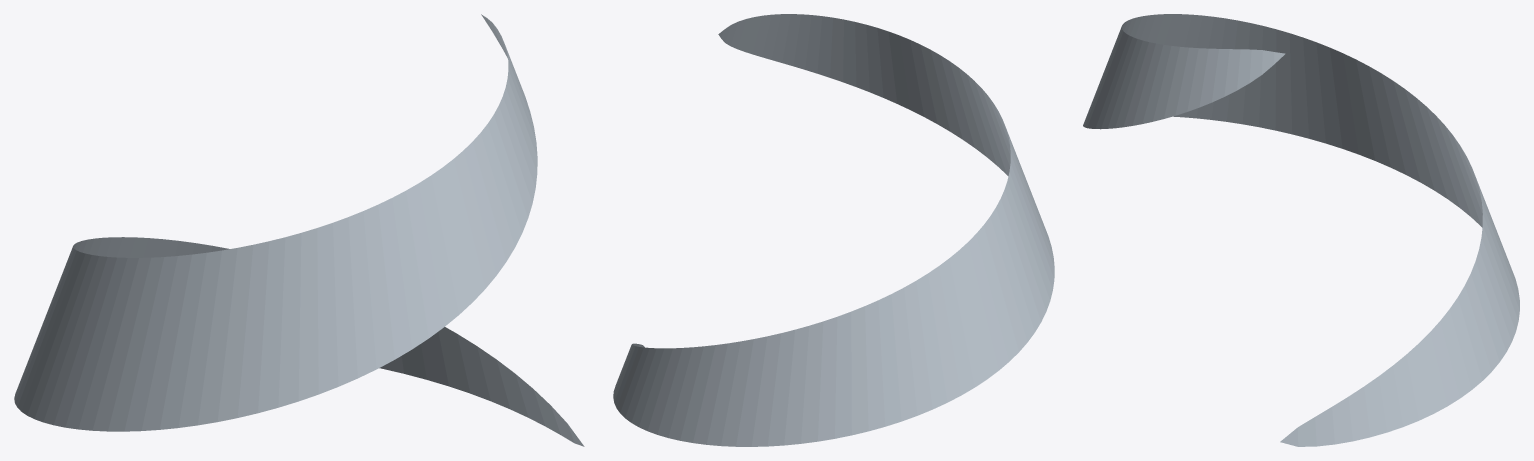
Rendered from swirl_ribbon.fbx.
3 views of the same model, side by side, from view 1: azimuth 30°, elevation 25°; view 2: azimuth 150°, elevation 25°; view 3: azimuth 270°, elevation 25° (orthographic). The views are drawn at different scales.
Parts seen in each view (by area): view 1: SwirlRibbon; view 2: SwirlRibbon; view 3: SwirlRibbon.
Part boxes in pixels (bbox=[...]): SwirlRibbon: bbox=[14, 14, 584, 446]; SwirlRibbon: bbox=[613, 14, 1054, 446]; SwirlRibbon: bbox=[1083, 14, 1519, 446].
Bounding box in the file's own units: 1.06 × 0.892 × 0.988.
